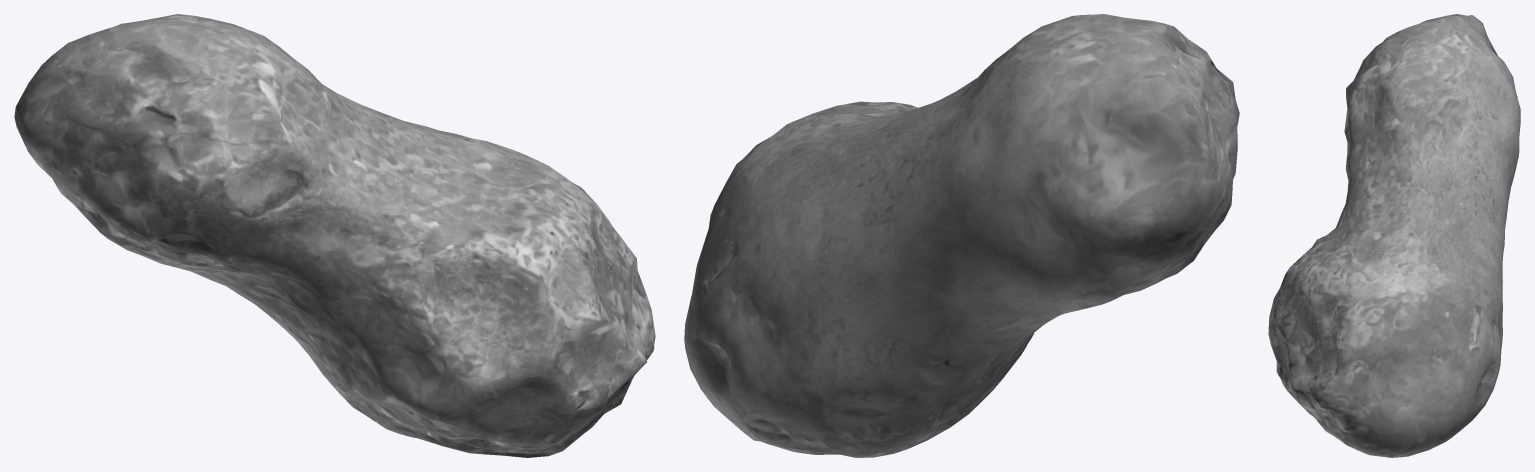
Rendered from big_02.glb.
3 views of the same model, side by side, from view 1: azimuth 30°, elevation 25°; view 2: azimuth 150°, elevation 25°; view 3: azimuth 270°, elevation 25° (orthographic). The views are drawn at different scales.
Parts seen in each view (by area): view 1: big_02; view 2: big_02; view 3: big_02.
Boxes of the visible parts, x1=… form: big_02: x1=14, y1=14, x2=655, y2=457; big_02: x1=684, y1=14, x2=1239, y2=457; big_02: x1=1268, y1=14, x2=1520, y2=457.
Size of the model in its own units: 1.63 by 1.36 by 0.9822.
1 material, 1 textured.
